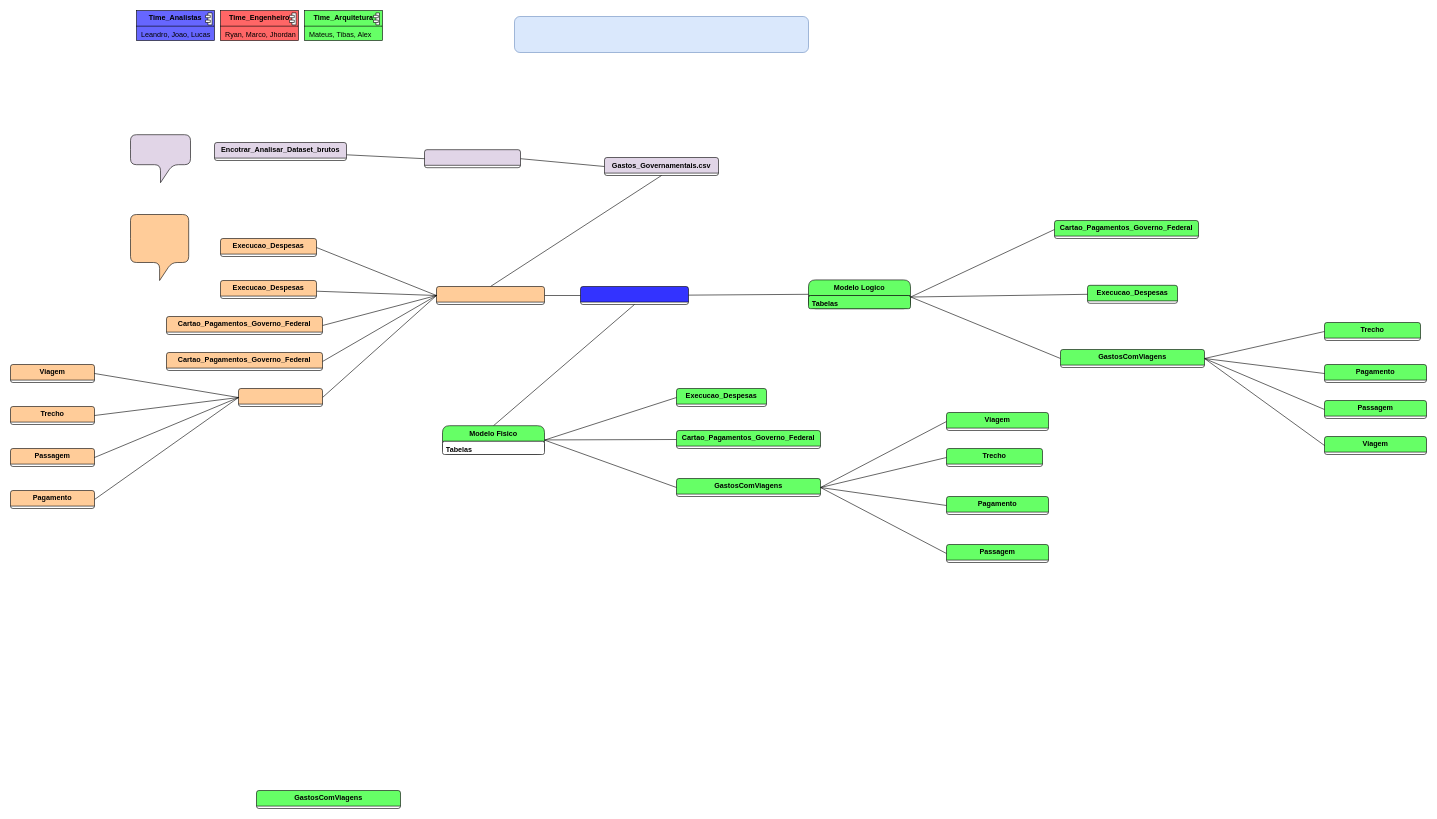
Image size: 1437x819. Some labels were removed from this diagram. The centre of each missing label's shape, as x and y in pixels:
"Portal_Transparencia": (x=472, y=158)
Armazenar_GitHub: (x=634, y=295)
Data Lineage Gastos Governamentais: (x=661, y=34)
Extracao_Dados_brutos.csv: (x=490, y=295)
Responsaveis: Ryan; Leandro; Joao;Tibas; Mateus: (x=159, y=247)
Responsaveis: Todos_Menbros: (x=160, y=158)
Viagens_Servicos: (x=280, y=397)
